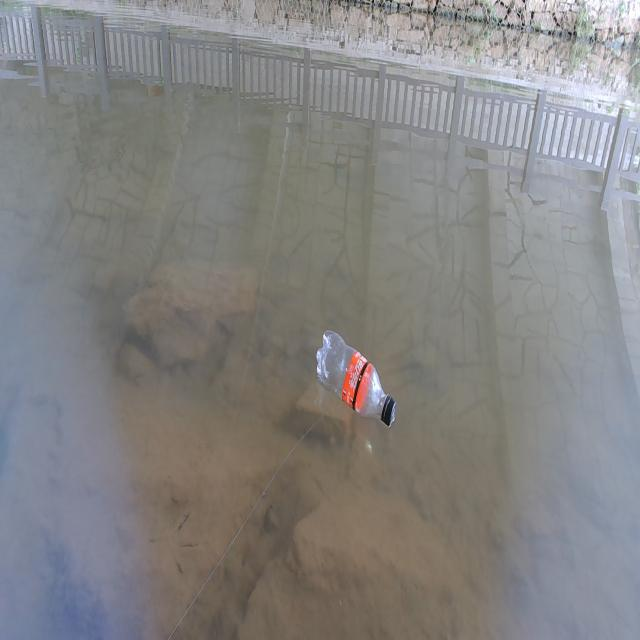Bottle: (315, 327, 397, 427)
